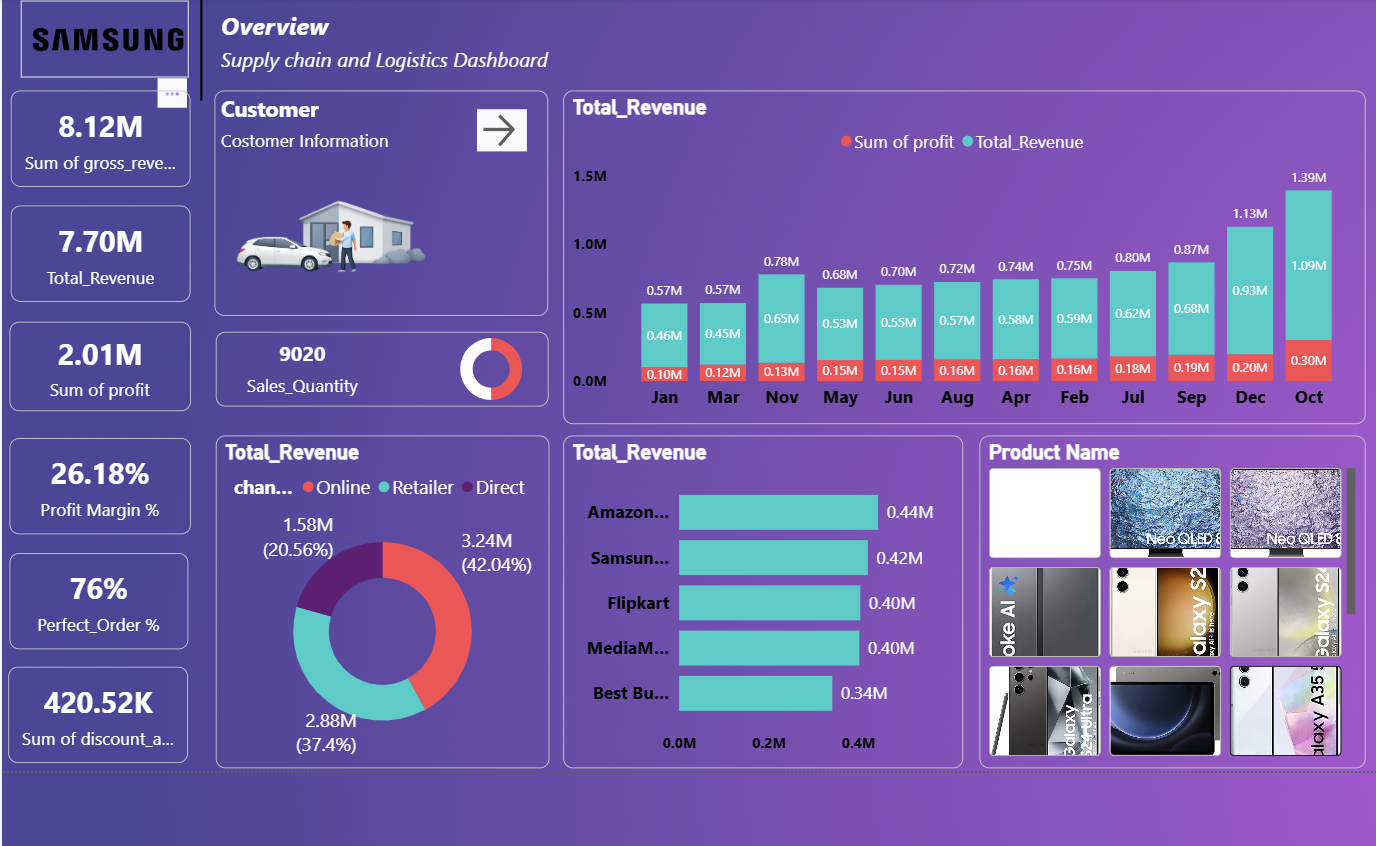

Layout of this report page (visuals, bound fields, positions):
{"tool":"powerbi","page":{"name":"Customer","canvas":[1280,720],"ordinal":5},"visuals":[{"type":"shape","box":[197.7,86,310.5,209.3],"z":0},{"type":"image","box":[210.5,143,200,152.3],"z":1000},{"type":"actionButton","box":[441.9,103.5,46.5,39.5],"z":2000},{"type":"textbox","title":"Customer","box":[198.8,89.5,187.2,80.2],"z":3000},{"type":"textbox","title":"Overview","box":[198.8,9.3,384.9,65.1],"z":4000},{"type":"shape","box":[164,0,43,95.3],"z":5000},{"type":"image","box":[17.4,2.3,155.8,72.1],"z":6000},{"type":"card","fields":{"Values":["MeasuresTable.Total_Revenue"]},"box":[7.8,193.4,167.4,89.5],"z":7000},{"type":"card","fields":{"Values":["Sum(fact_sales.profit)"]},"box":[6.5,301.1,168.7,83.1],"z":8000},{"type":"card","fields":{"Values":["MeasuresTable.Profit Margin %"]},"box":[6.5,408.8,168.7,89.5],"z":9000},{"type":"card","fields":{"Values":["MeasuresTable.Perfect_Order %"]},"box":[6.5,516.5,166.1,89.5],"z":10000},{"type":"card","fields":{"Values":["Sum(fact_sales.gross_revenue)"]},"box":[7.8,85.7,167.4,89.5],"z":11000},{"type":"shape","box":[198.8,310.5,309.3,69.8],"z":12000},{"type":"card","fields":{"Values":["MeasuresTable.Total_Sales_Quantity"]},"box":[210.5,310.5,138.4,65.1],"z":13000},{"type":"donutChart","title":"Total_Revenue ","fields":{"Category":["dim_customer.channel_type"],"Y":["MeasuresTable.Total_Revenue"]},"box":[198.8,407,310.5,309.3],"z":14000},{"type":"donutChart","fields":{"Y":["MeasuresTable.Total_Sales_Quantity","MeasuresTable.Total_QTY_Delay"]},"box":[402.3,297.7,105.8,95.3],"z":15000},{"type":"advancedSlicerVisual","title":"Product Name","fields":{"Values":["dim_product.product_name"]},"box":[909.3,407,359.3,309.3],"z":16000},{"type":"clusteredBarChart","title":"Total_Revenue ","fields":{"Category":["dim_customer.customer_name"],"Y":["Sum(fact_sales.profit)"]},"box":[522.1,407,372.1,309.3],"z":17000},{"type":"columnChart","title":"Total_Revenue ","fields":{"Category":["dim_date.Month_Short"],"Y":["Sum(fact_sales.profit)","MeasuresTable.Total_Revenue"]},"box":[522.1,86,746.5,310.5],"z":18000},{"type":"card","fields":{"Values":["Sum(fact_sales.discount_amount)"]},"box":[5.8,622.1,167.4,89.5],"z":19000}]}

Visuals, with their boxes on the page's 1280x720 design canvas (x1, y1, x2, y2). These are canvas units, not pixel positions in the 1376x846 screenshot, which may show the page scaled, cropped or inside an application window:
shape: pyautogui.locateOnScreen(198, 86, 508, 295)
image: pyautogui.locateOnScreen(210, 143, 410, 295)
actionButton: pyautogui.locateOnScreen(442, 104, 488, 143)
"Customer" textbox: pyautogui.locateOnScreen(199, 90, 386, 170)
"Overview" textbox: pyautogui.locateOnScreen(199, 9, 584, 74)
shape: pyautogui.locateOnScreen(164, 0, 207, 95)
image: pyautogui.locateOnScreen(17, 2, 173, 74)
card - MeasuresTable.Total_Revenue: pyautogui.locateOnScreen(8, 193, 175, 283)
card - Sum(fact_sales.profit): pyautogui.locateOnScreen(6, 301, 175, 384)
card - MeasuresTable.Profit Margin %: pyautogui.locateOnScreen(6, 409, 175, 498)
card - MeasuresTable.Perfect_Order %: pyautogui.locateOnScreen(6, 516, 173, 606)
card - Sum(fact_sales.gross_revenue): pyautogui.locateOnScreen(8, 86, 175, 175)
shape: pyautogui.locateOnScreen(199, 310, 508, 380)
card - MeasuresTable.Total_Sales_Quantity: pyautogui.locateOnScreen(210, 310, 349, 376)
"Total_Revenue " donutChart: pyautogui.locateOnScreen(199, 407, 509, 716)
donutChart - MeasuresTable.Total_Sales_Quantity x MeasuresTable.Total_QTY_Delay: pyautogui.locateOnScreen(402, 298, 508, 393)
"Product Name" advancedSlicerVisual: pyautogui.locateOnScreen(909, 407, 1269, 716)
"Total_Revenue " clusteredBarChart: pyautogui.locateOnScreen(522, 407, 894, 716)
"Total_Revenue " columnChart: pyautogui.locateOnScreen(522, 86, 1269, 396)
card - Sum(fact_sales.discount_amount): pyautogui.locateOnScreen(6, 622, 173, 712)
